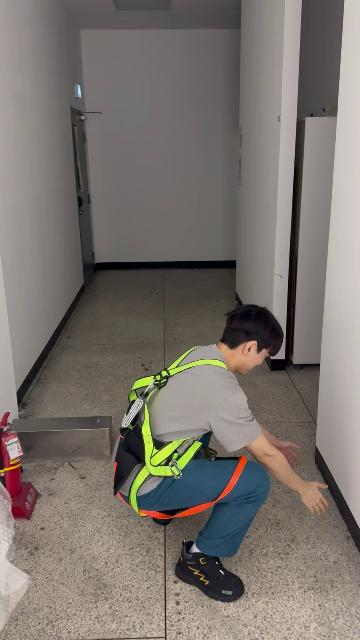helmet_not_worn: (220, 304, 287, 373)
shoe_worn: (176, 541, 244, 602)
vest_worn: (113, 353, 236, 517)
